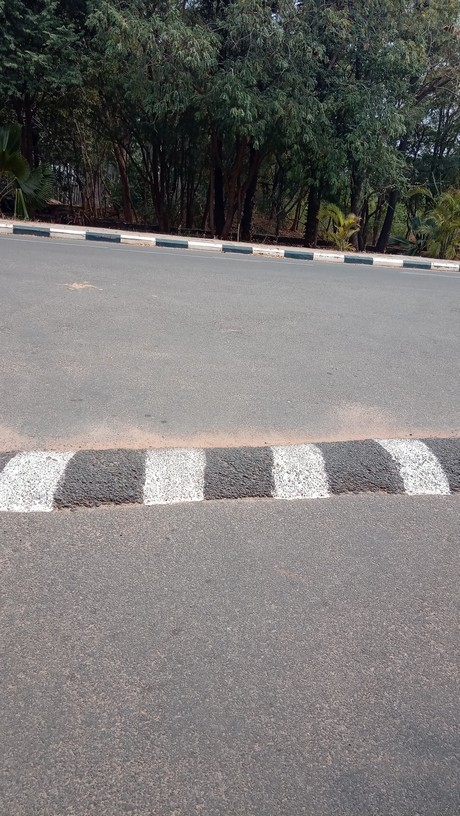bump: (1, 441, 459, 510)
